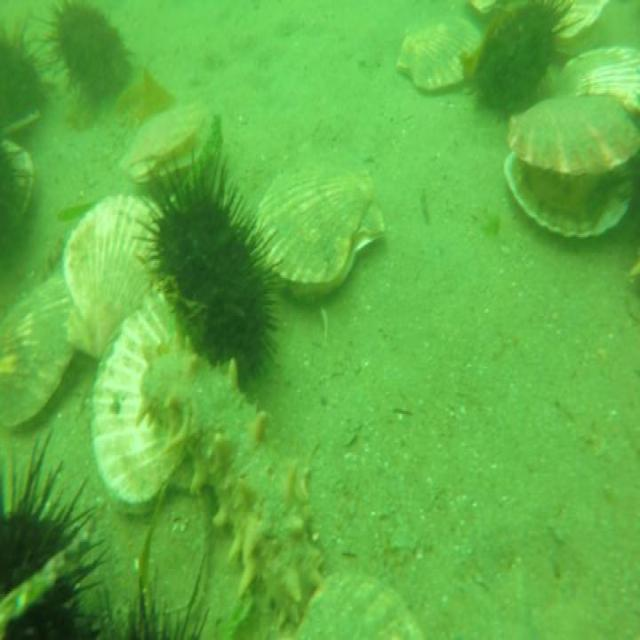echinus: (0, 447, 108, 640), (178, 213, 282, 381), (141, 155, 241, 324), (468, 0, 575, 114), (0, 19, 48, 136), (51, 0, 103, 90), (75, 19, 127, 107)
holothurian: (140, 333, 327, 624)
scallop: (89, 288, 196, 518), (501, 85, 639, 245), (250, 160, 386, 304), (61, 196, 167, 360), (0, 274, 84, 439), (290, 562, 427, 640), (118, 96, 211, 190), (397, 11, 482, 101), (556, 43, 640, 123)
